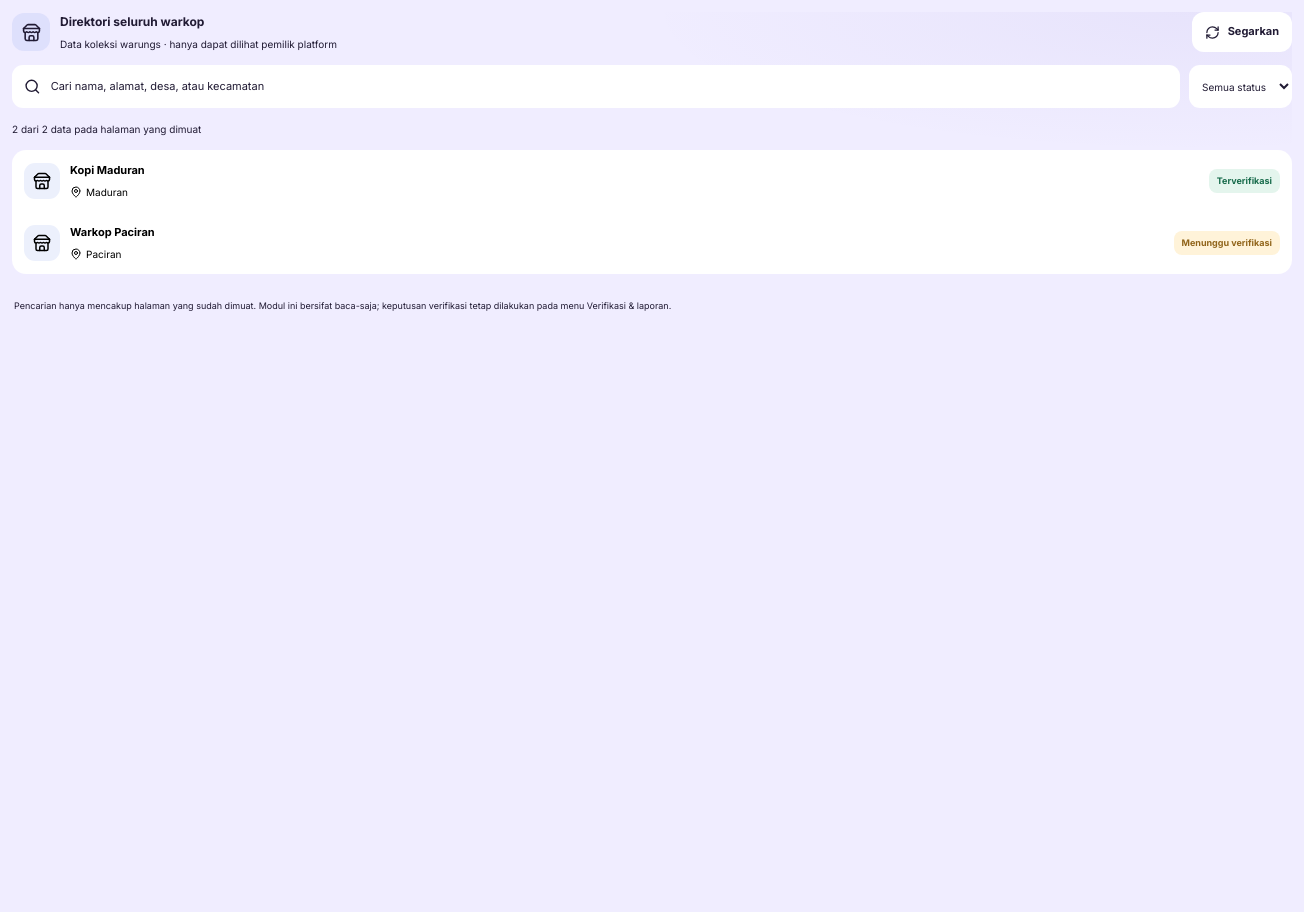
Scenario: OwnerWarungManagement › membuka detail baca-saja dan riwayat verifikasi
Click the text "Kopi Maduran": coordinates (107, 170) [70,163,145,177]
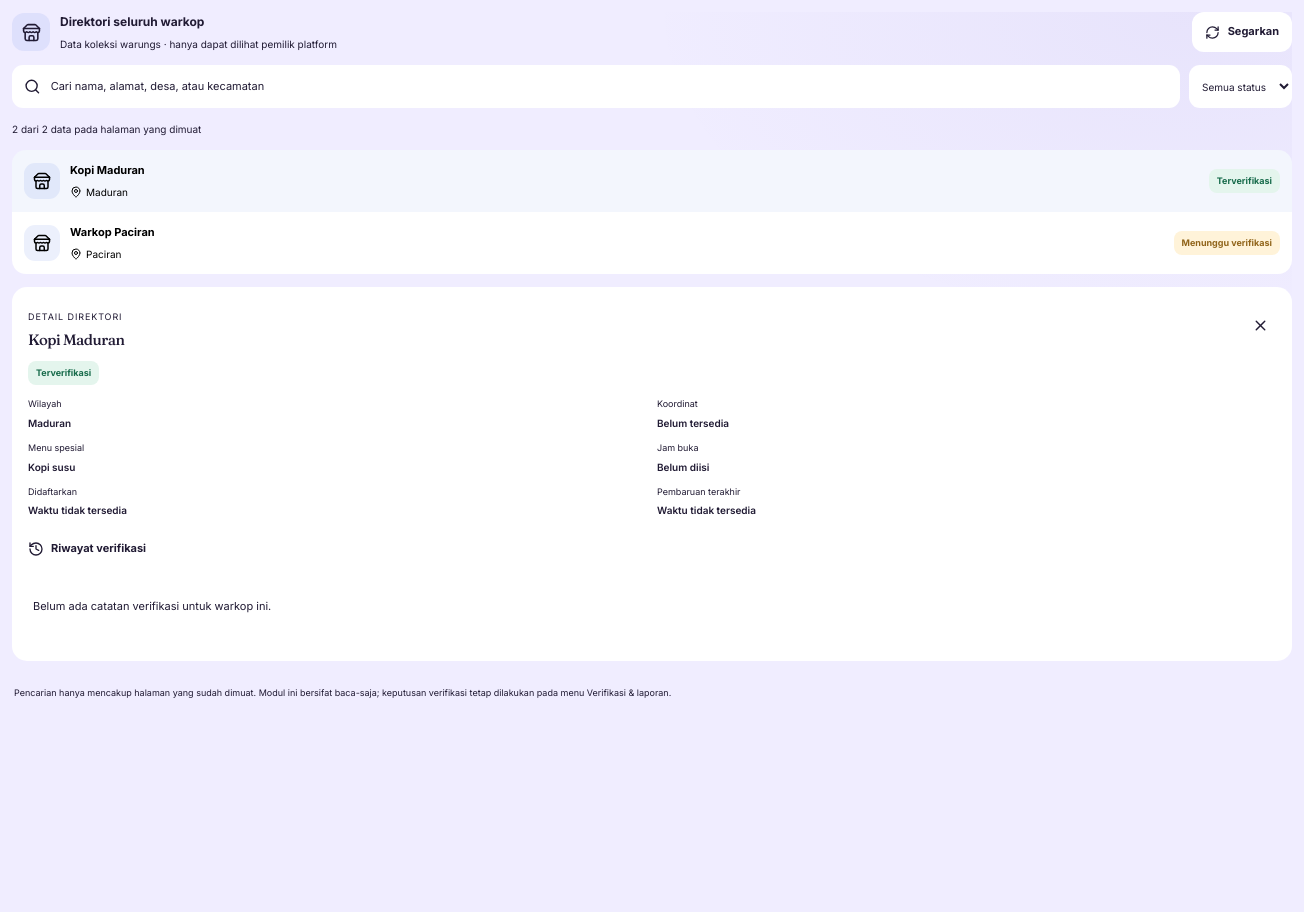
expect the text "DETAIL DIREKTORI" is shown: met, box [28,311,122,322]
expect the text "Kopi susu" is shown: met, box [28,461,75,473]
expect the text "Riwayat verifikasi" is shown: met, box [51,540,146,557]
